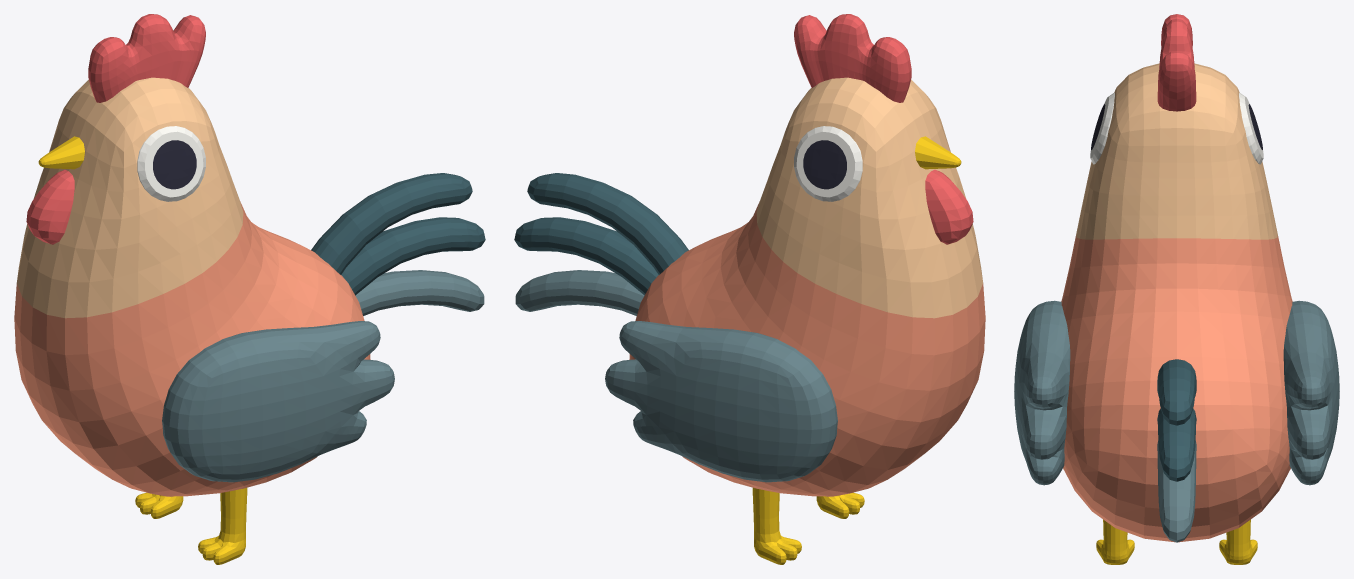
File: Rooster_LOD0.fbx
3 renders of one model, left to right at view 1: azimuth 30°, elevation 25°; view 2: azimuth 150°, elevation 25°; view 3: azimuth 270°, elevation 25°, orthographic.
Parts seen in each view (by area): view 1: Mesh; view 2: Mesh; view 3: Mesh.
Part boxes in pixels (bbox=[...]): Mesh: bbox=[14, 14, 485, 564]; Mesh: bbox=[514, 14, 985, 564]; Mesh: bbox=[1014, 14, 1339, 564].
Bounding box in the file's own units: 221 × 245 × 140.
1 material, 1 textured.
